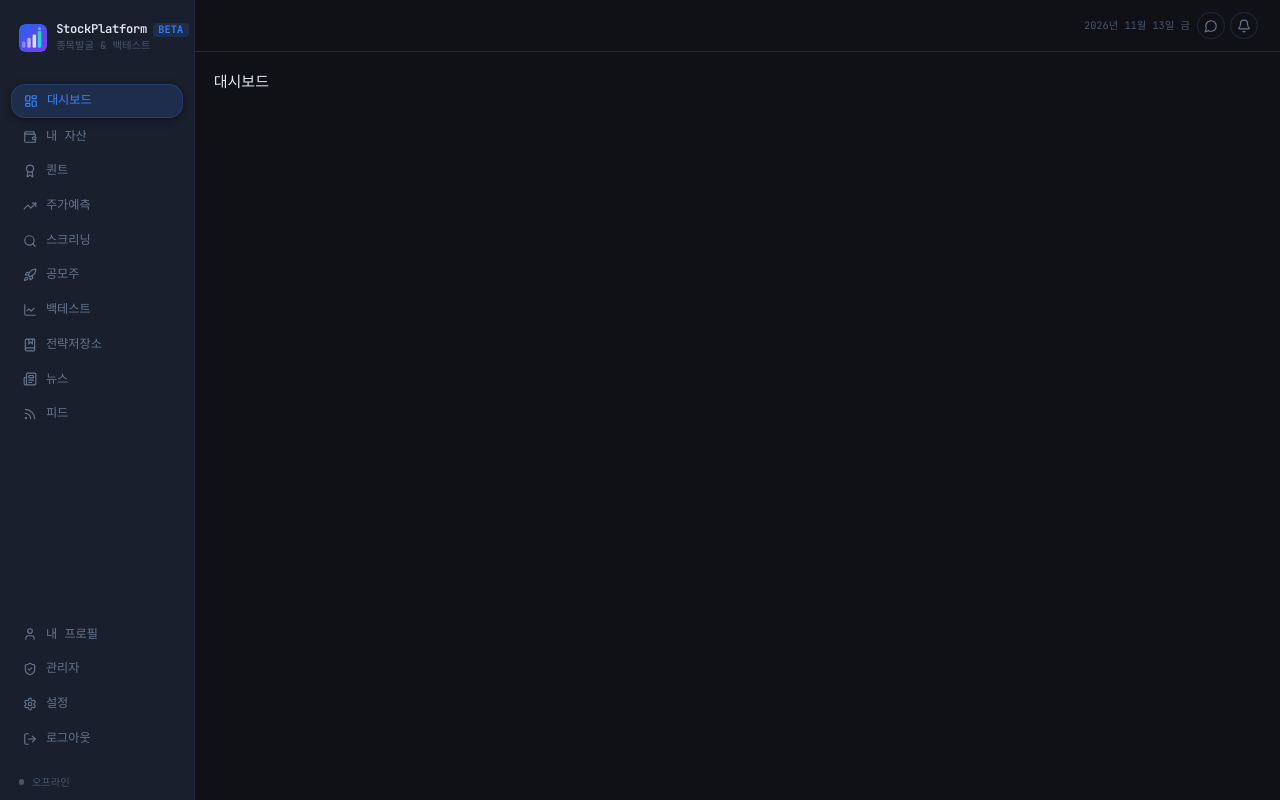
it: 머리 정리 — 메시지·알림만(사용자: "위에 메시지 알림 로그아웃 다크모드 등 너무 많은데 정리해줘") › PC 왼쪽 메뉴 아래로 옮겼다 — 관리자(관리자만)·로그아웃. 다크 모드는 설정 창에만
Expected: the button "설정" is shown, [11,687,183,720]
Click the button "로그아웃" at (97,738), box [11,722,183,755]
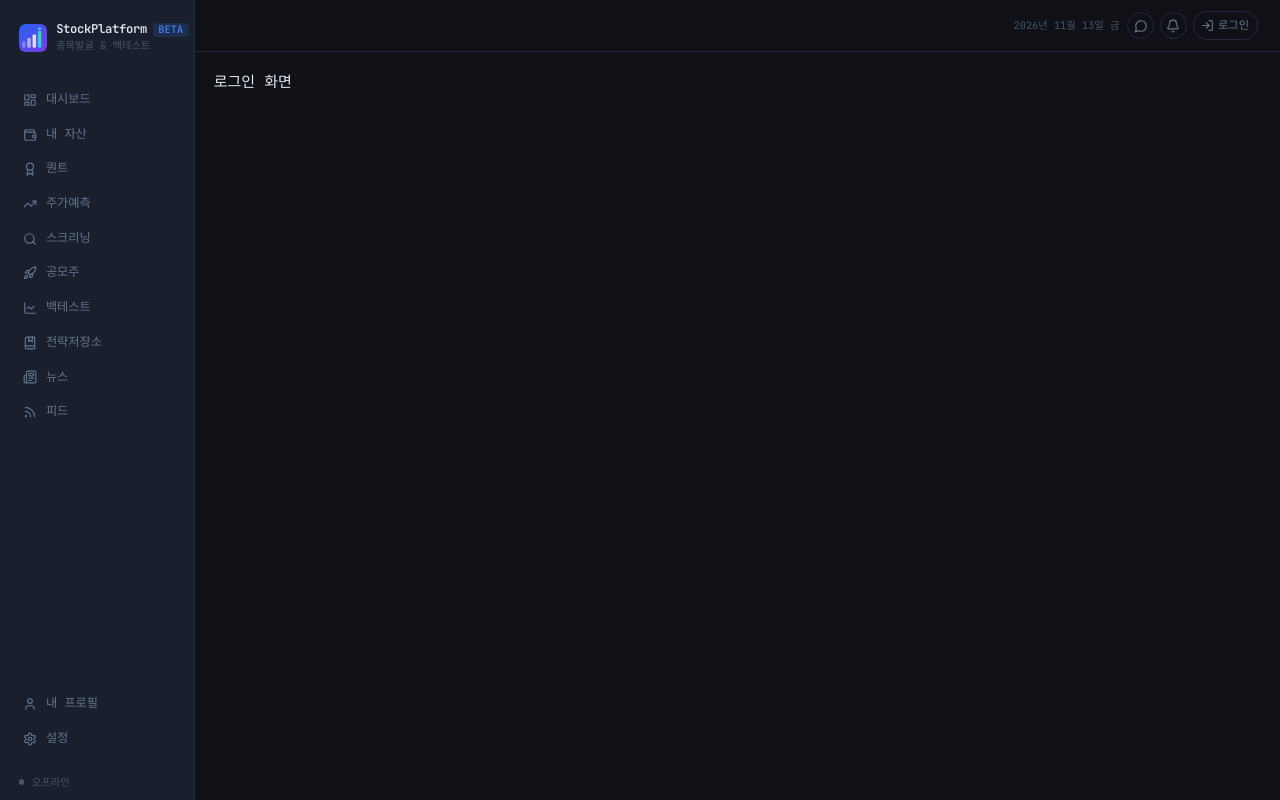
Expected: the text "로그인 화면" is shown, [214,72,292,92]
